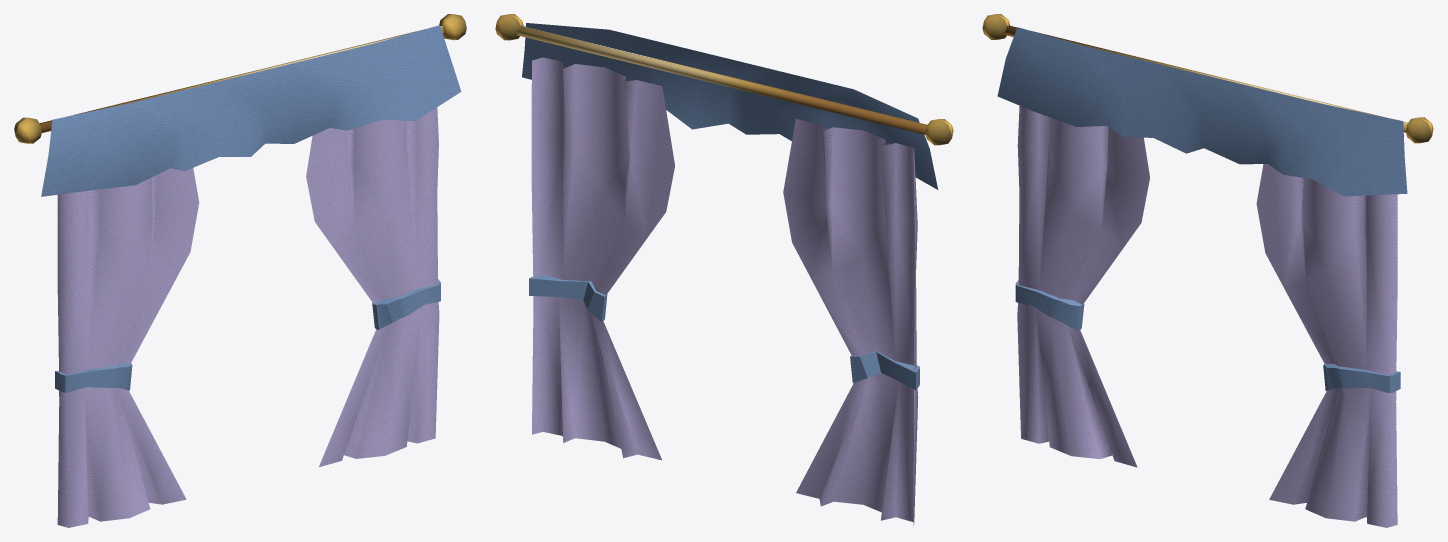
File: Curtains_01_J.FBX
The picture shows the model from 3 angles, left to right: view 1: azimuth 30°, elevation 25°; view 2: azimuth 150°, elevation 25°; view 3: azimuth 330°, elevation 25°; orthographic projection.
Parts seen in each view (by area): view 1: Curtains_01; view 2: Curtains_01; view 3: Curtains_01.
Part boxes in pixels (box(x1,y1,x2,y2)): Curtains_01: box(14, 14, 466, 527); Curtains_01: box(495, 14, 953, 526); Curtains_01: box(982, 14, 1433, 527).
Bounding box in the file's own units: 251 × 221 × 25.59.
